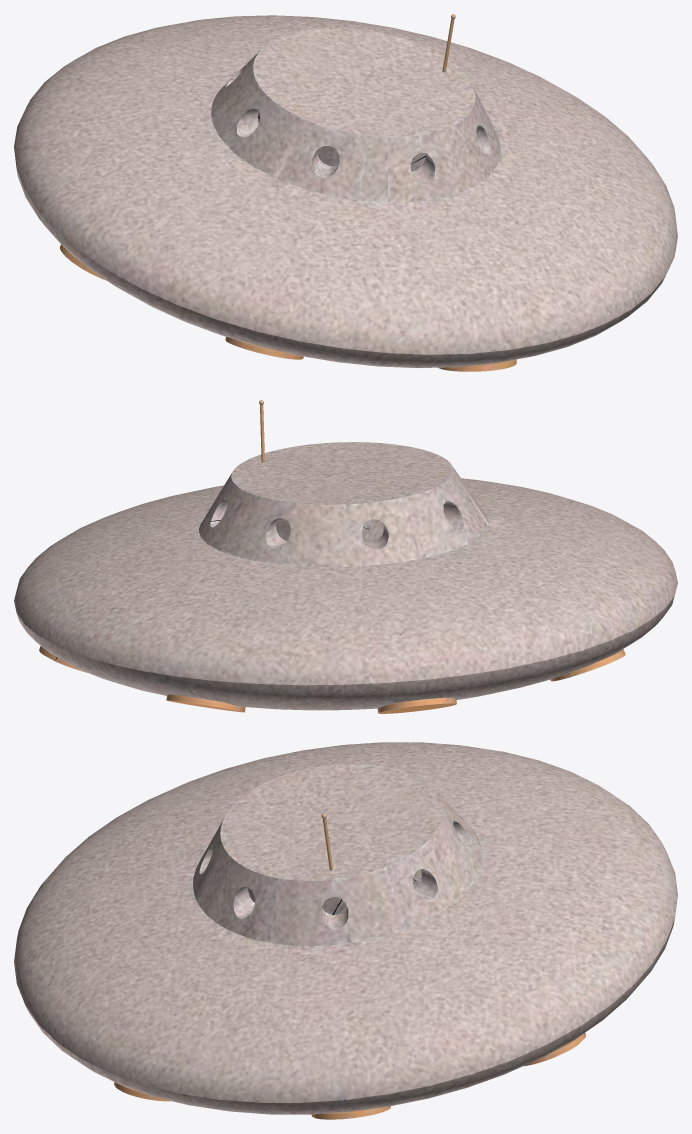
The model's file is ufo-optimized.glb.
The picture shows the model from 3 angles, top to bottom: view 1: azimuth 30°, elevation 25°; view 2: azimuth 150°, elevation 25°; view 3: azimuth 270°, elevation 25°; orthographic projection.
Visible parts, largest first — view 1: obj_0.001__0; view 2: obj_0.001__0; view 3: obj_0.001__0.
Boxes of the visible parts, x1=… form: obj_0.001__0: x1=14, y1=14, x2=677, y2=371; obj_0.001__0: x1=14, y1=400, x2=677, y2=713; obj_0.001__0: x1=14, y1=742, x2=677, y2=1119.
Bounding box in the file's own units: 5.63 × 2.4 × 5.62.
1 material, 1 textured.
